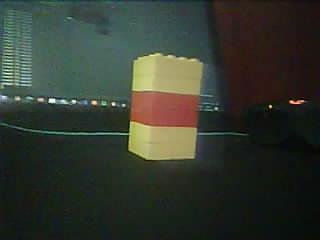lego: (128, 53, 203, 161)
